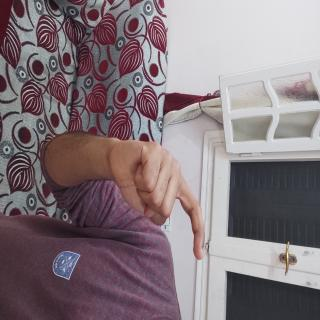RAA: (99, 146, 198, 280)
